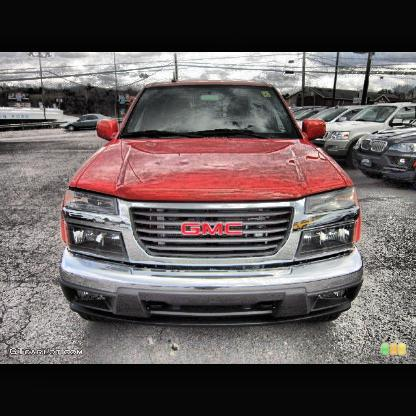GMC Canyon Extended Cab 2012: (60, 74, 364, 331)
